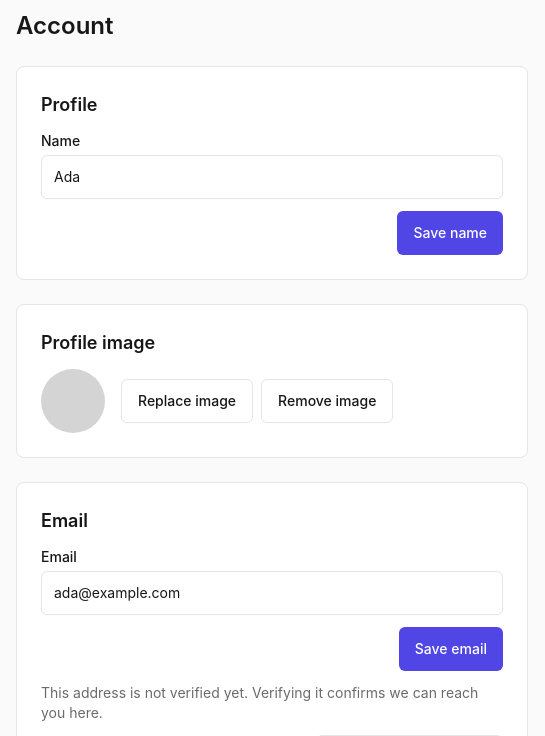
Test: Account › removes the profile image
Click the button "Remove image": [327, 401] box x1=261 y1=379 x2=393 y2=423
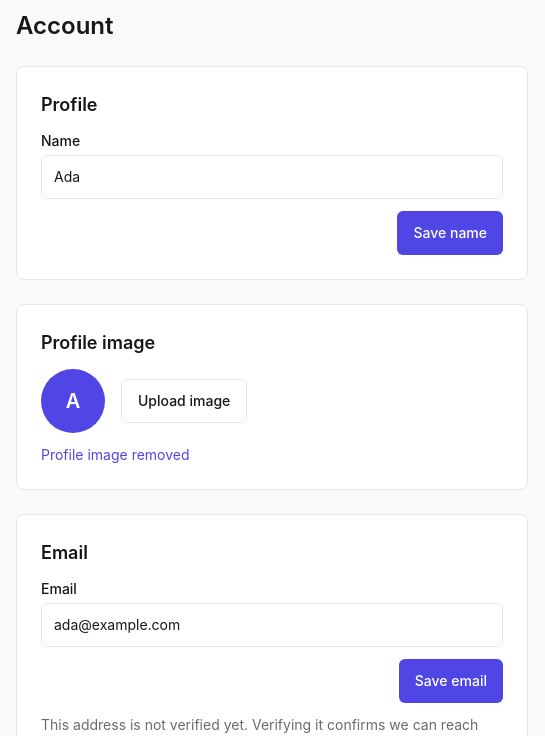
Now the text "Profile image removed" is shown, box x1=41 y1=446 x2=190 y2=463
Now the button "Remove image" is gone
Now the button "Upload image" is shown, box x1=121 y1=379 x2=247 y2=423
